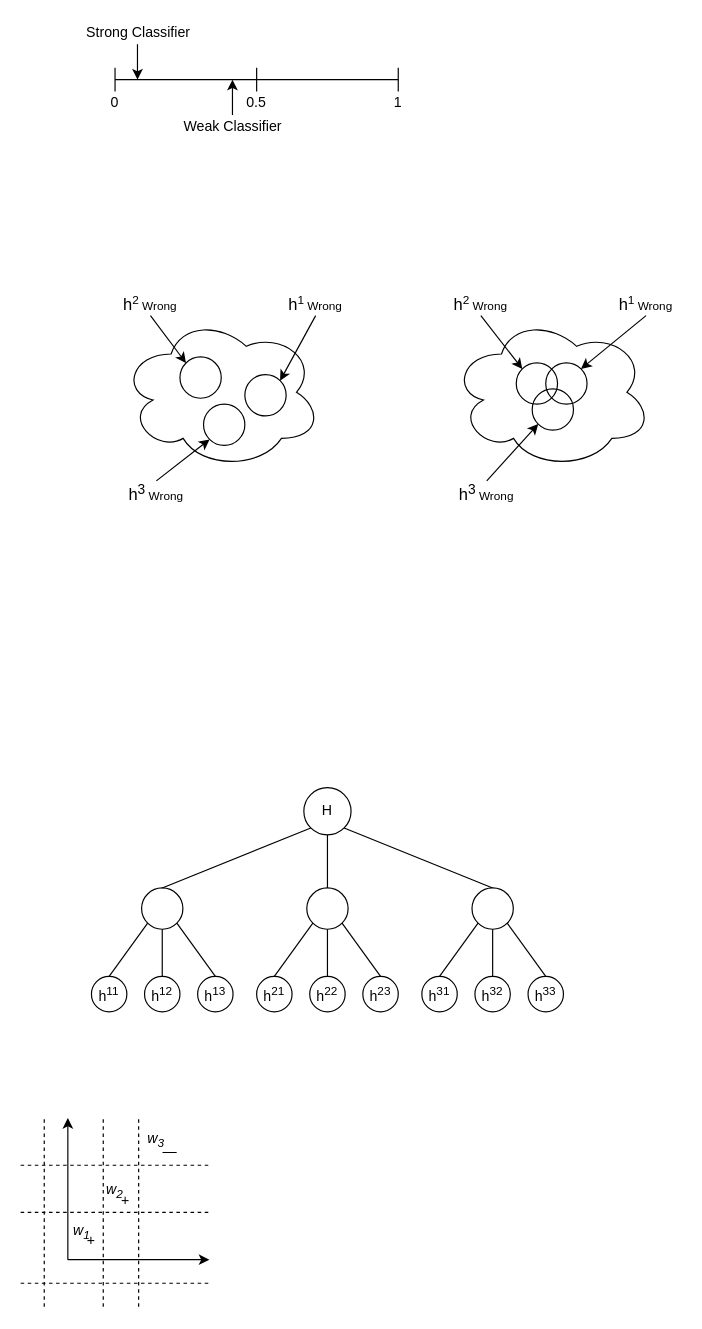
The diagram is 702 pixels wide and 1329 high, and some of its shapes have lost their labels. The centre of each missing label's shape, as x and y in pixels:
h 1: (161,908)
h 2: (327,908)
h 3: (492,908)
